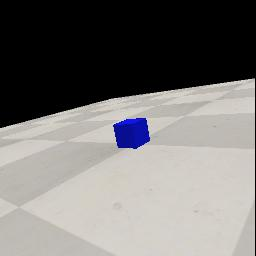box: (113, 117, 151, 149)
